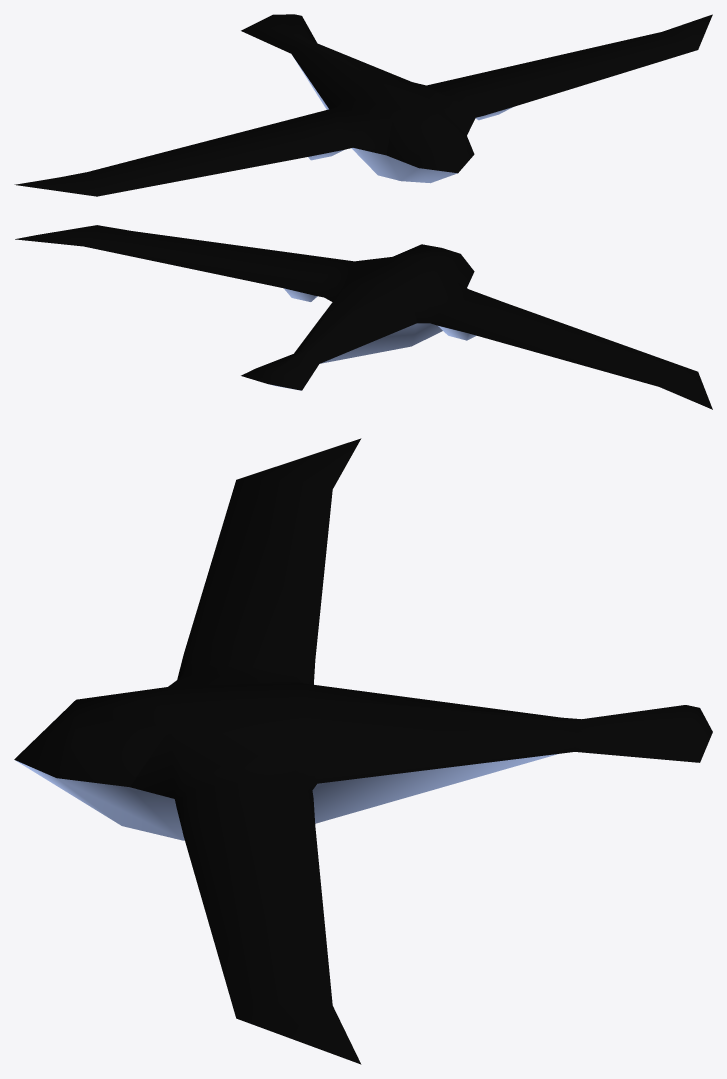
The model's file is birdplane.glb.
3 renders of one model, top to bottom at view 1: azimuth 30°, elevation 25°; view 2: azimuth 150°, elevation 25°; view 3: azimuth 270°, elevation 25°, orthographic. The views are drawn at different scales.
Parts seen in each view (by area): view 1: birdplane; view 2: birdplane; view 3: birdplane.
Boxes of the visible parts, left/top/right/bottom form: birdplane: left=14, top=14, right=712, bottom=196; birdplane: left=15, top=225, right=712, bottom=409; birdplane: left=14, top=438, right=712, bottom=1064.
Bounding box in the file's own units: 16.82 × 1.54 × 7.93.
1 material, 1 textured.
